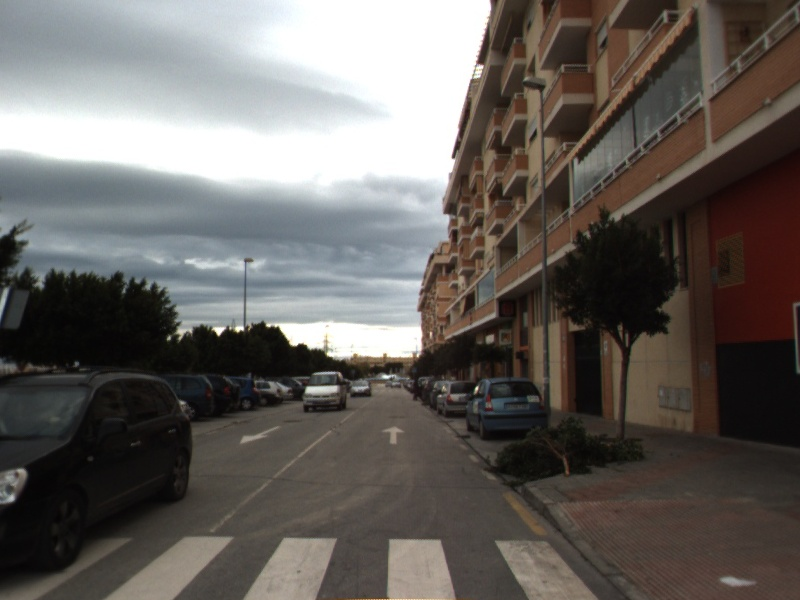STRAIGHT: (379, 424, 408, 446)
